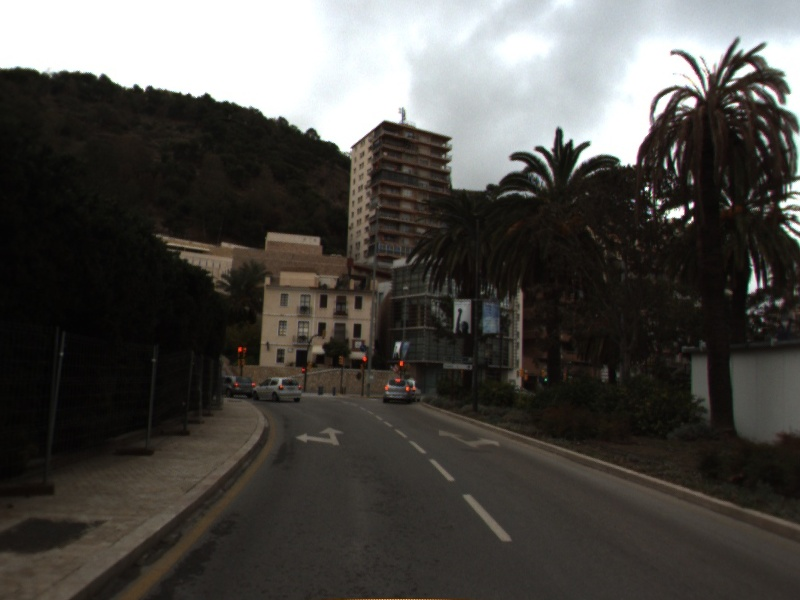STRAIGHT_LEFT: (293, 425, 346, 447)
STRAIGHT_RIGHT: (437, 427, 502, 450)
